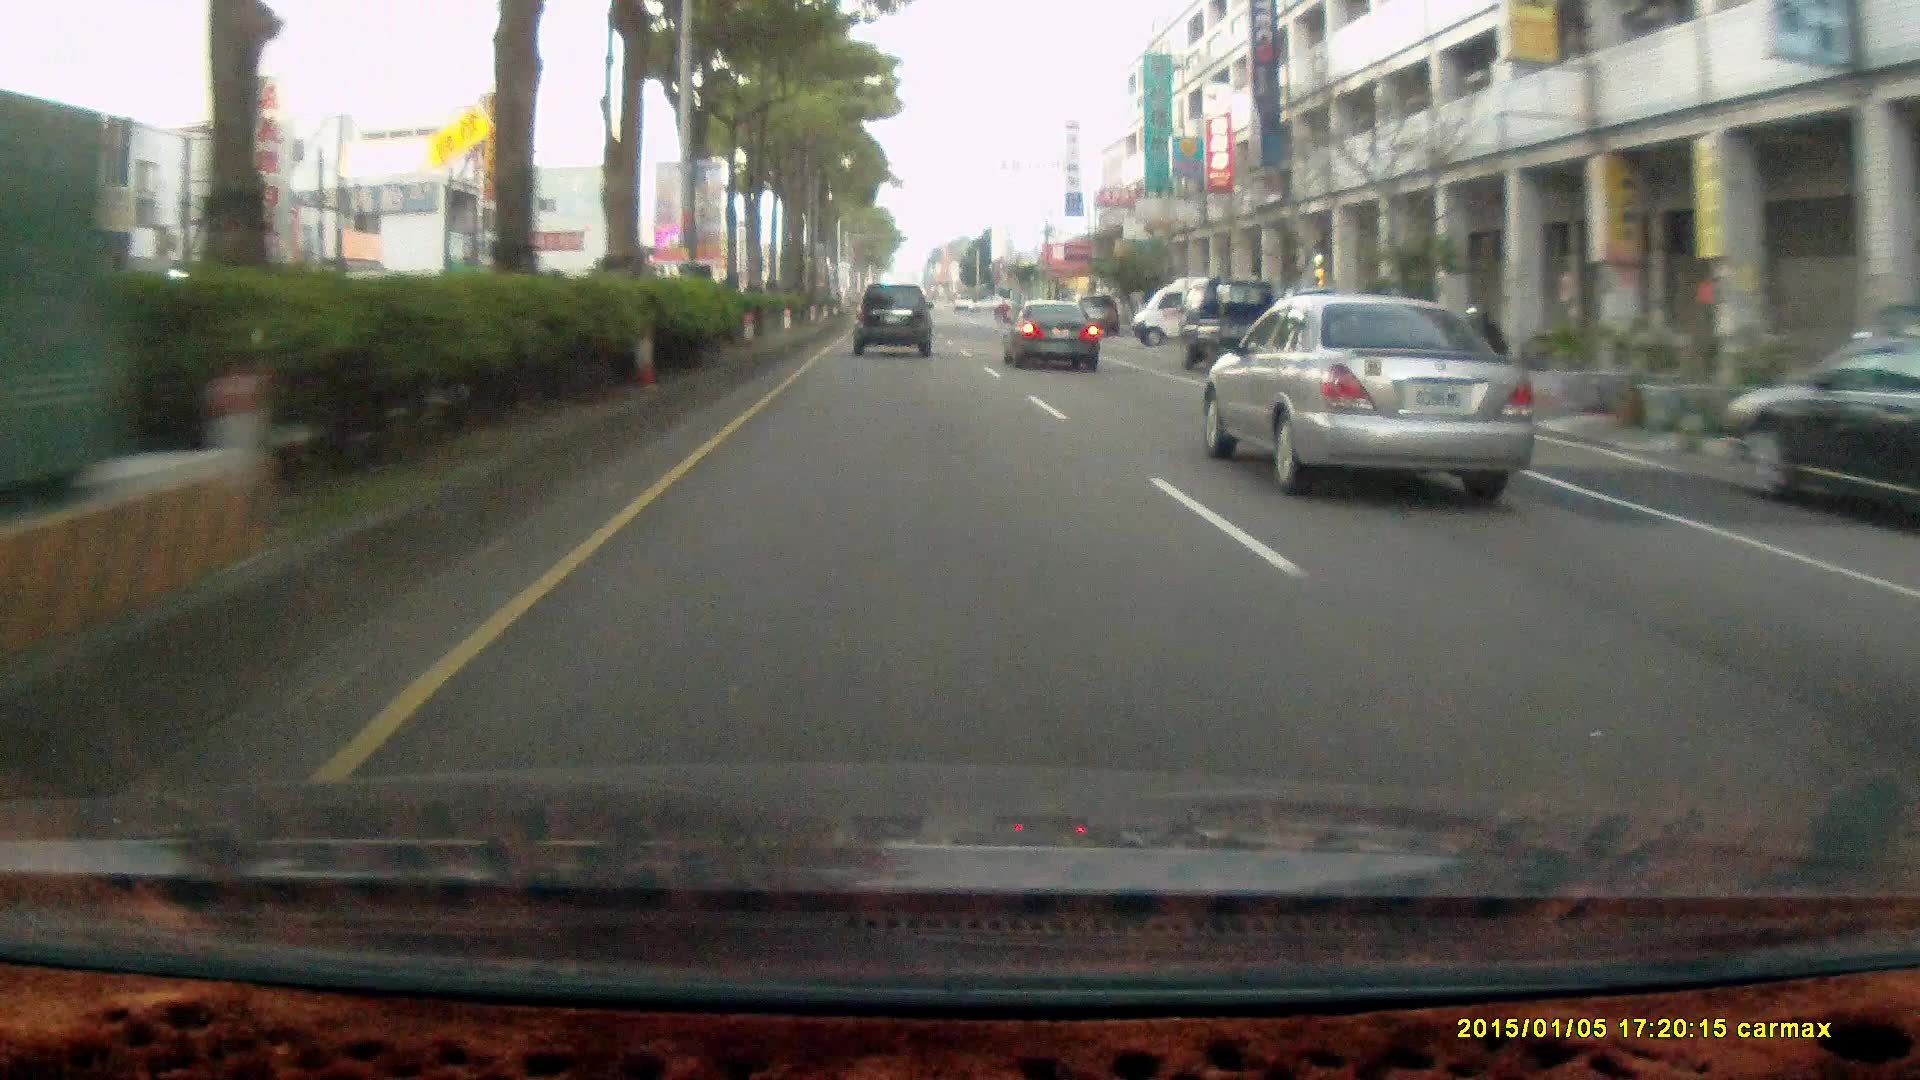vehicle: (1197, 287, 1530, 487), (1722, 343, 1920, 539), (1321, 305, 1491, 405), (1196, 276, 1313, 386), (1178, 276, 1291, 371), (1134, 276, 1266, 351), (1130, 276, 1262, 345), (1000, 298, 1104, 375), (1001, 293, 1098, 365), (852, 281, 936, 359), (851, 280, 932, 352)
